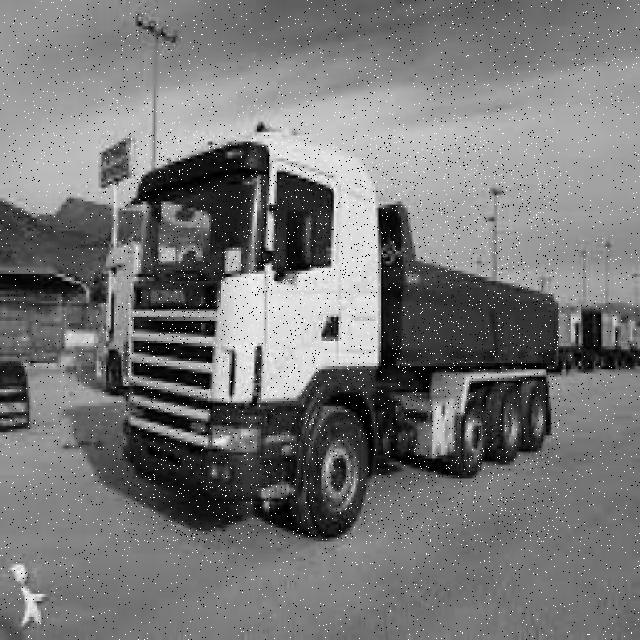Box Truck: (124, 135, 561, 542)
